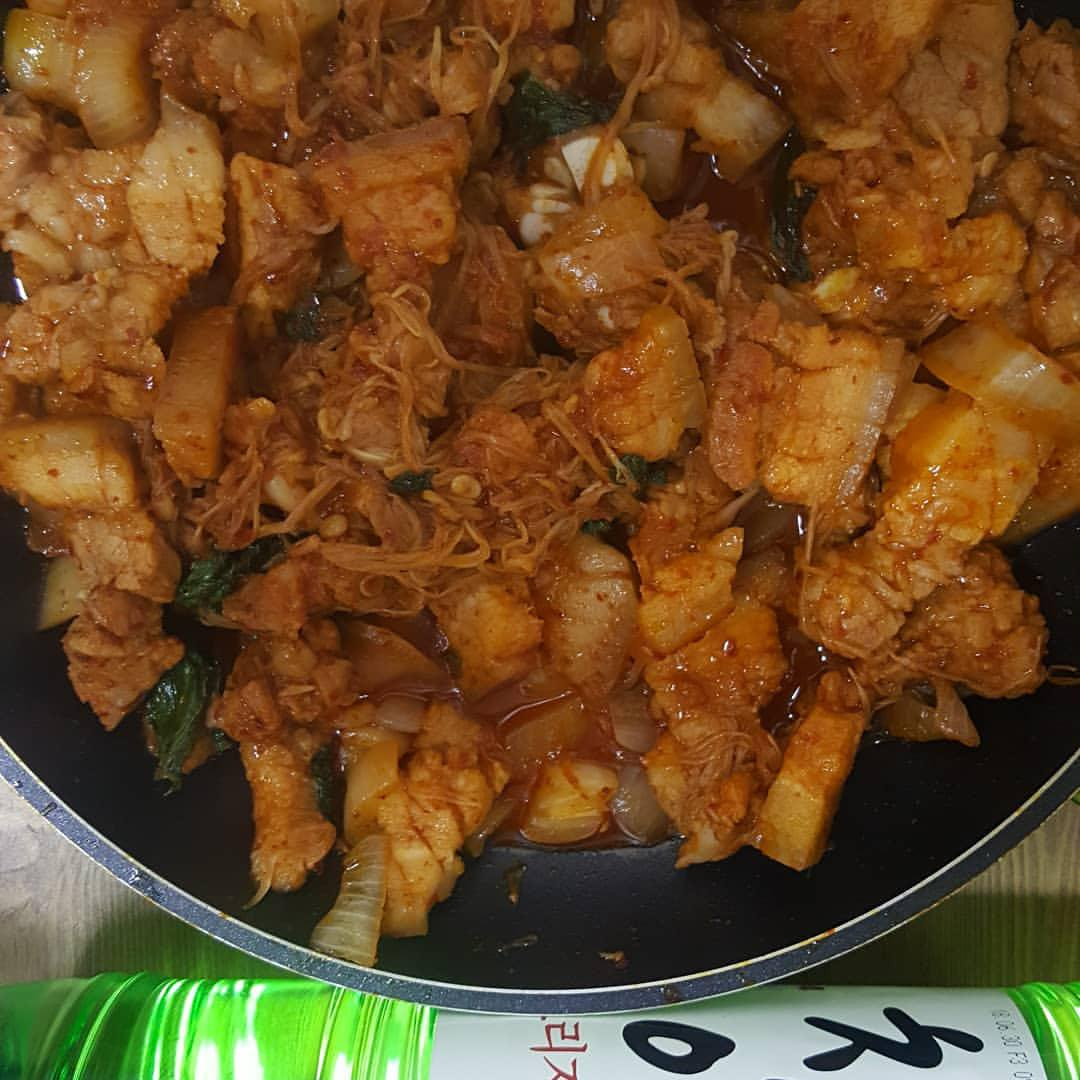soju: (4, 965, 1079, 1077)
